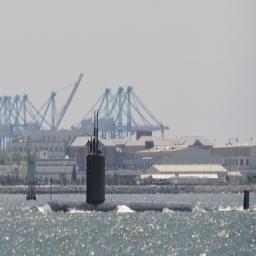submarine: (48, 158, 250, 214)
